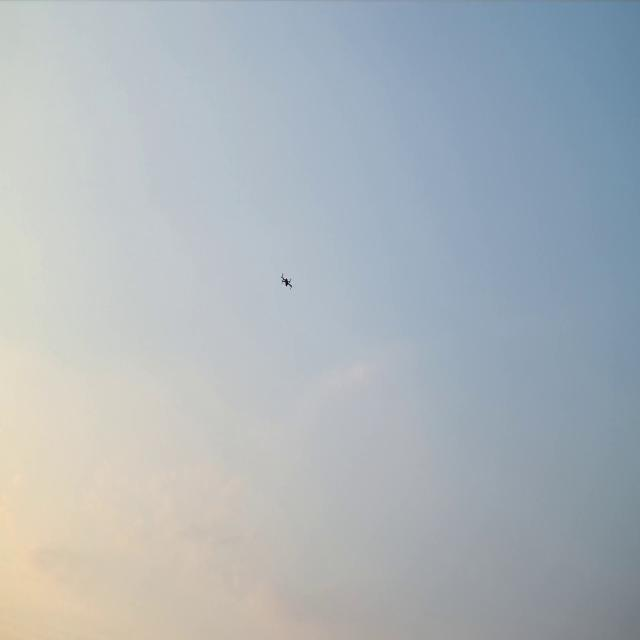UAV: (282, 275, 292, 288)
